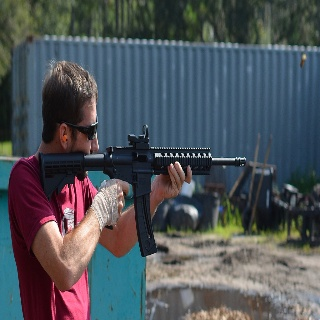rifle: (39, 123, 249, 257)
